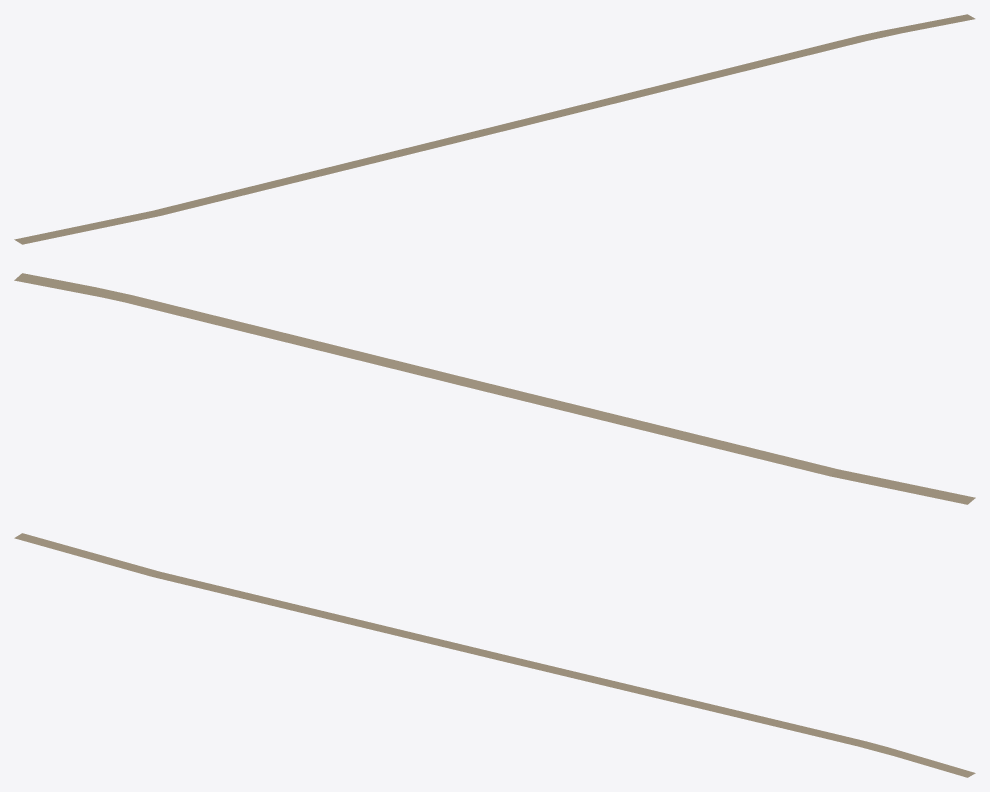
The model's file is farm_9_21_track.glb.
3 renders of one model, top to bottom at view 1: azimuth 30°, elevation 25°; view 2: azimuth 150°, elevation 25°; view 3: azimuth 330°, elevation 25°, orthographic.
Visible parts, largest first — view 1: geometry_0; view 2: geometry_0; view 3: geometry_0.
Boxes of the visible parts, <box> form: geometry_0: <box>14,14,975,244</box>; geometry_0: <box>14,273,975,504</box>; geometry_0: <box>14,533,975,777</box>.
Bounding box in the file's own units: 216 × 1.91 × 3.49.
